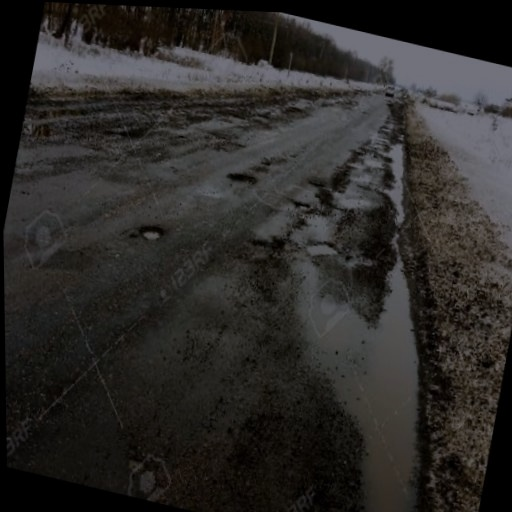pothole: (304, 235, 342, 262), (137, 219, 165, 244), (224, 166, 259, 186), (293, 198, 310, 212)
